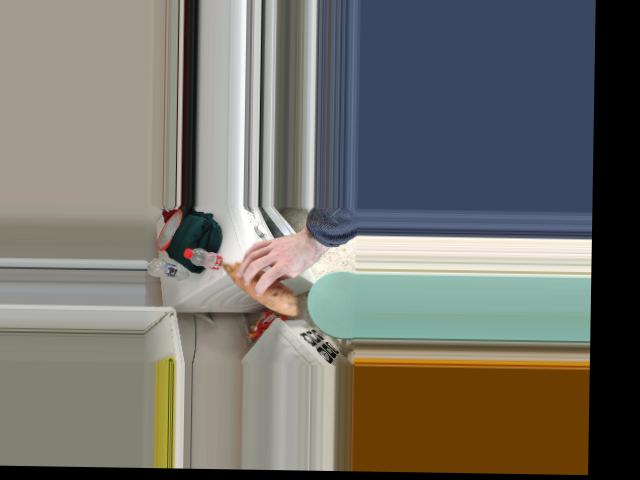sweet_potato: (224, 252, 288, 315)
